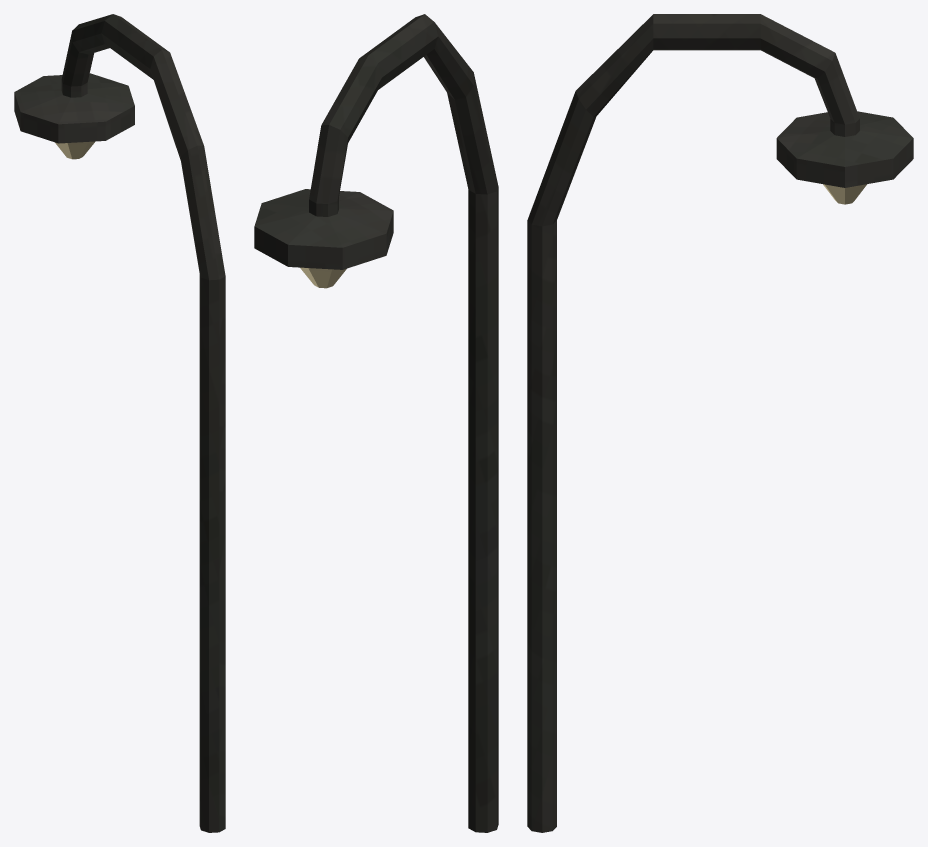
Rendered from PosteLuz.fbx.
3 renders of one model, left to right at view 1: azimuth 30°, elevation 25°; view 2: azimuth 150°, elevation 25°; view 3: azimuth 270°, elevation 25°, orthographic. The views are drawn at different scales.
Visible parts, largest first — view 1: PosteLuz; view 2: PosteLuz; view 3: PosteLuz.
Part boxes in pixels (x1,y1,x2,y2): PosteLuz: [14, 14, 225, 832]; PosteLuz: [254, 14, 498, 832]; PosteLuz: [527, 14, 913, 832].
Bounding box in the file's own units: 63 × 413 × 178.
2 materials, 1 textured.
